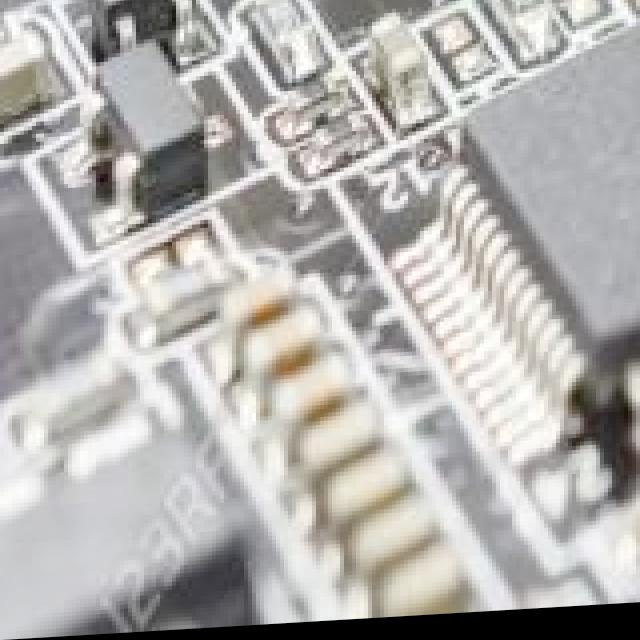IC: (436, 6, 640, 484)
capacitor: (372, 0, 438, 147), (372, 535, 460, 621), (324, 437, 414, 519), (220, 270, 308, 348), (356, 491, 456, 557), (264, 348, 348, 424), (244, 293, 318, 371), (300, 394, 378, 466)
transistor: (76, 33, 236, 246), (76, 0, 204, 52)
